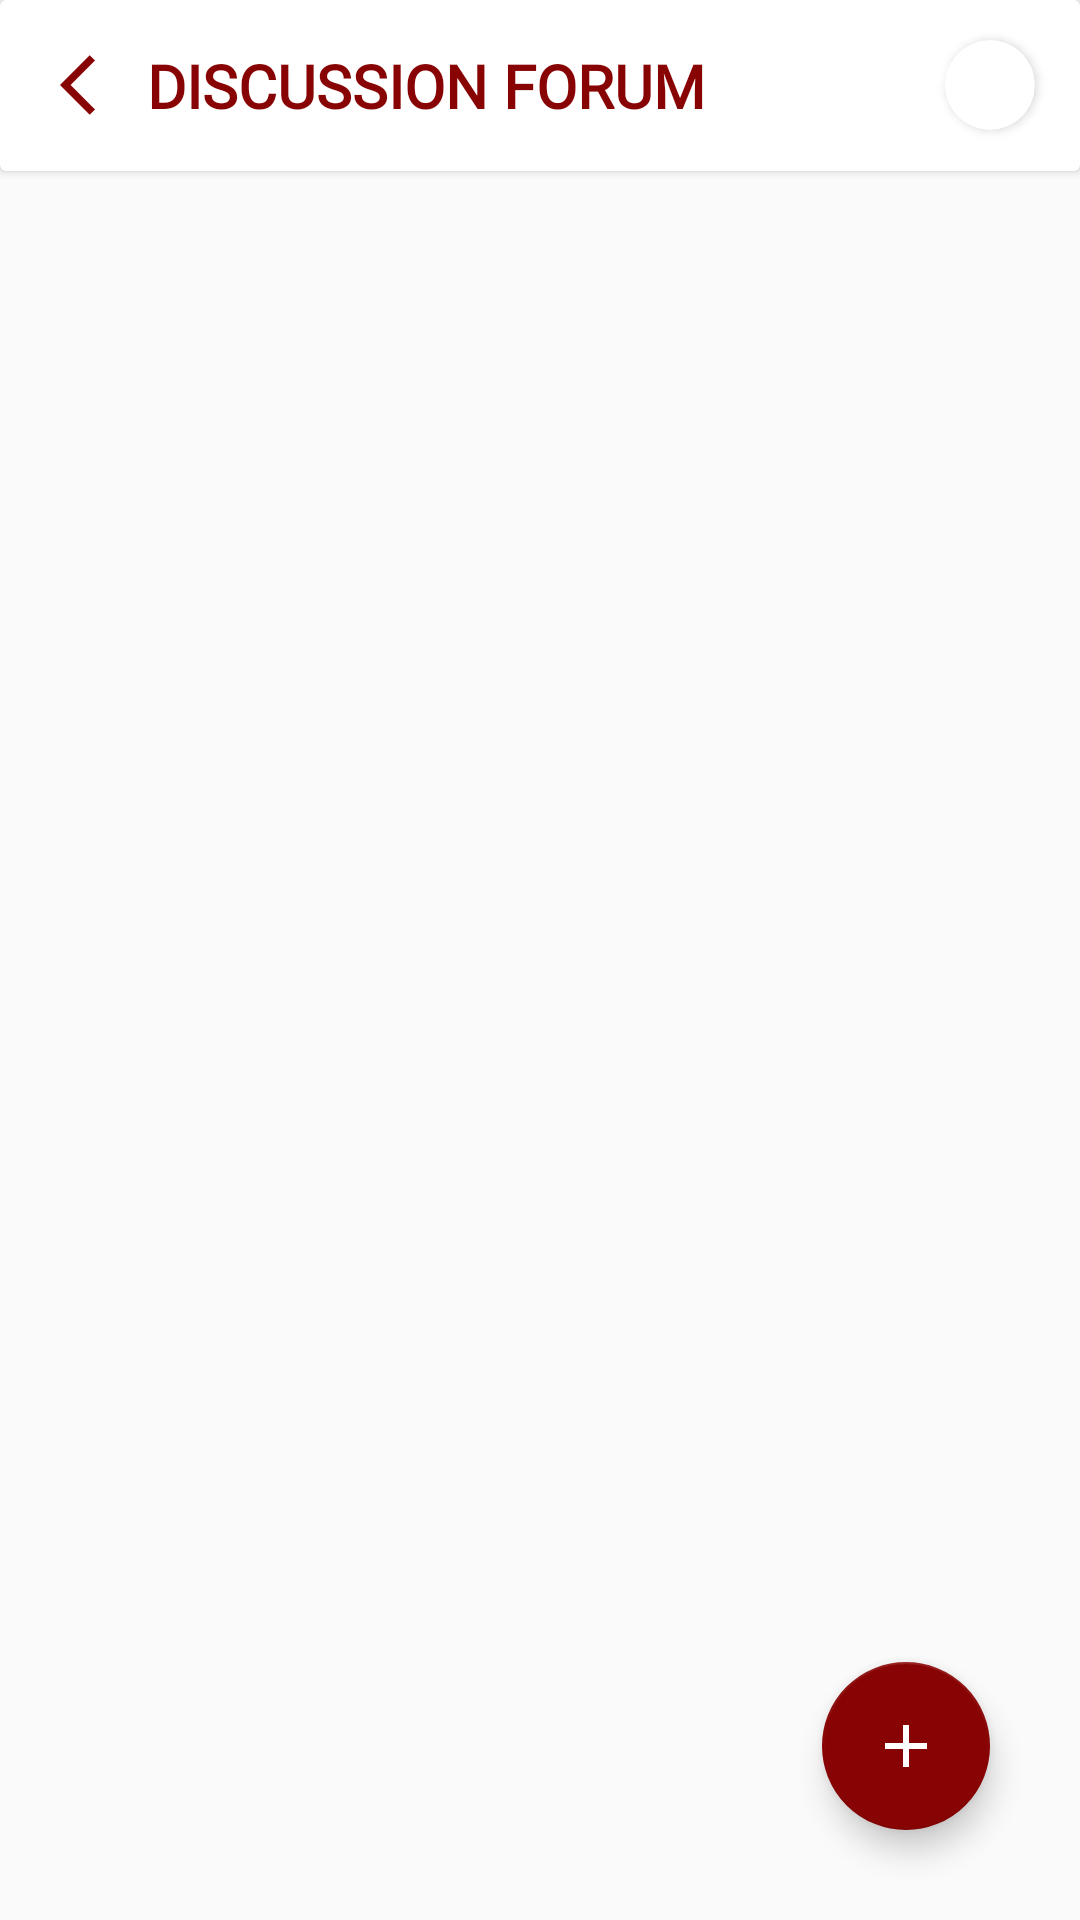

Screen size 1080x1920. Icon name, then its center in pixels as point (x, y):
add: point (906, 1746)
